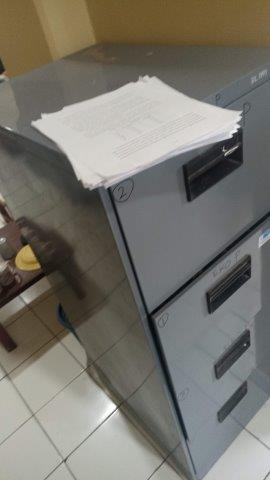kertas: (37, 77, 243, 188)
